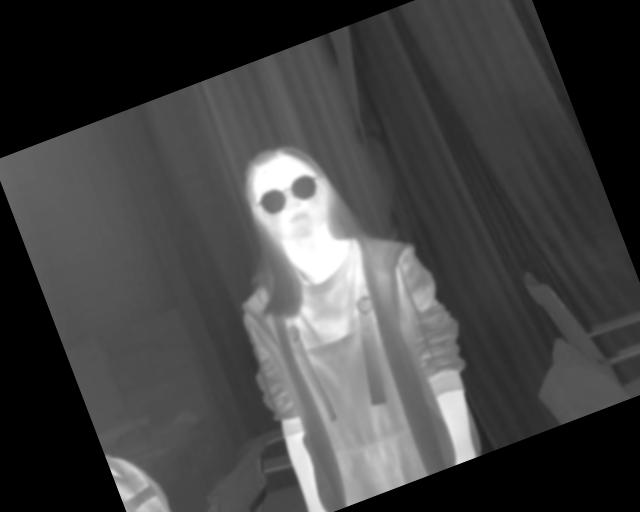face: (235, 133, 343, 254)
